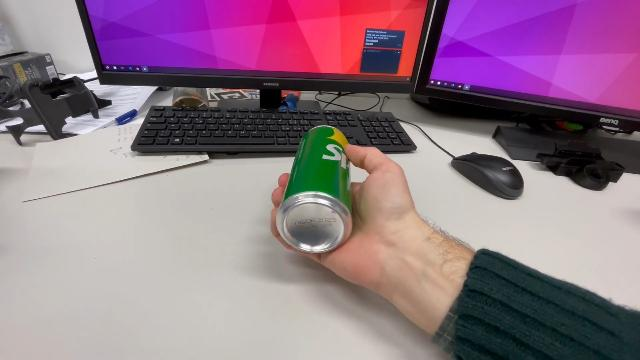Sprite: (272, 122, 356, 256)
